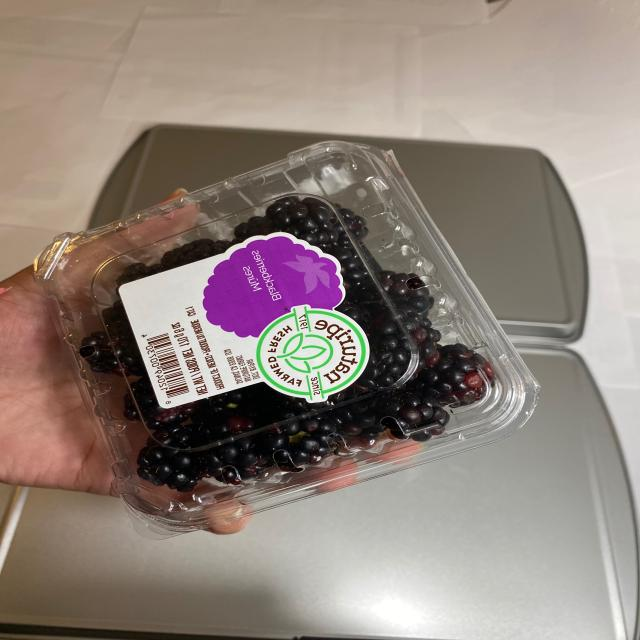blackberries: (65, 127, 526, 517)
